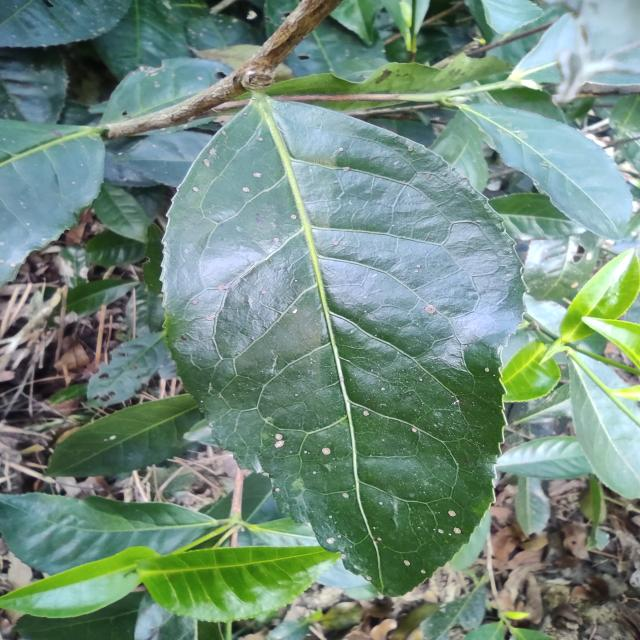Category D 7+ days, Not for Tea: (156, 85, 551, 611)
